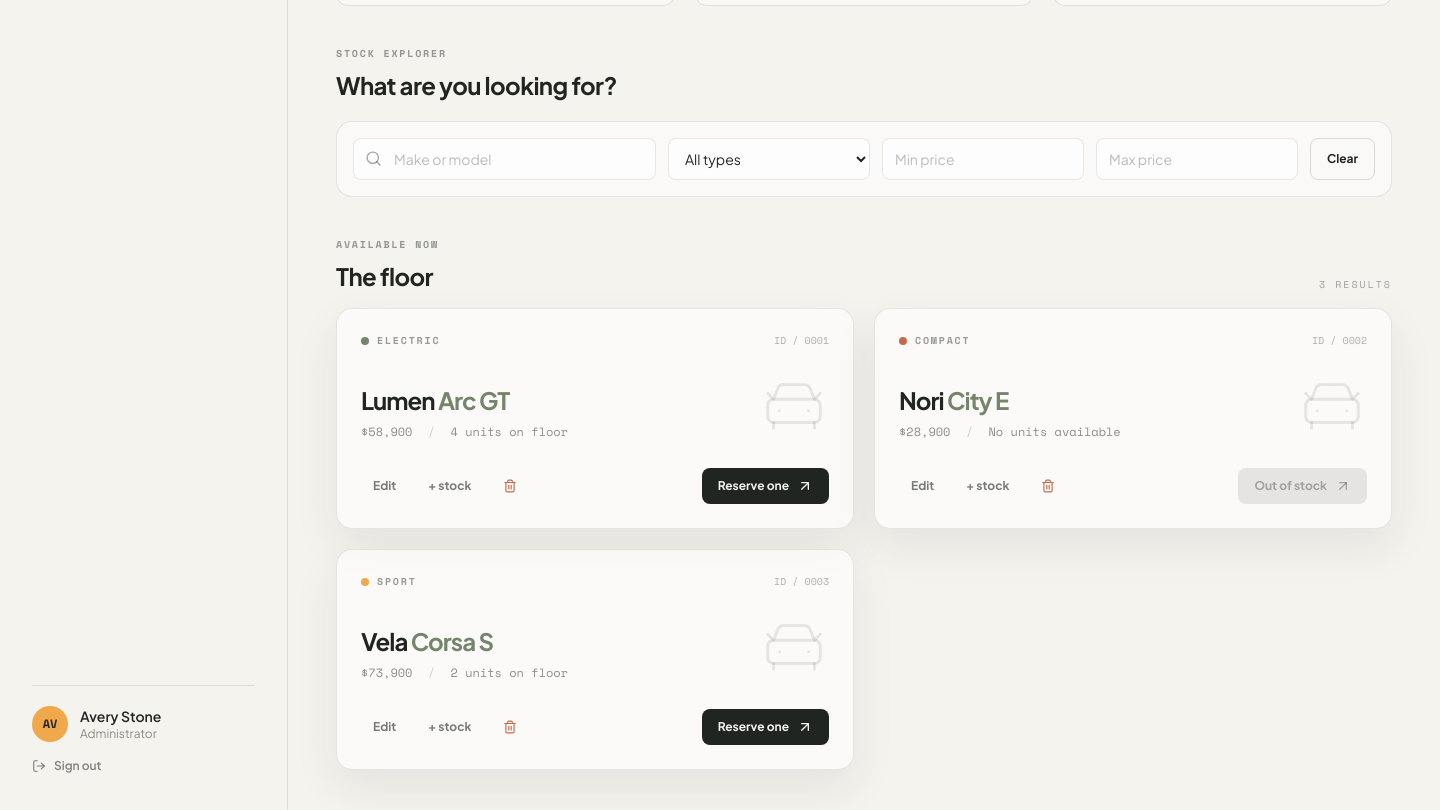
Test: Dashboard (admin) › restocks a vehicle
(page scrolled)
Click the button "+ stock" below "$28,900".
click(988, 486)  # box [954, 468, 1021, 504]
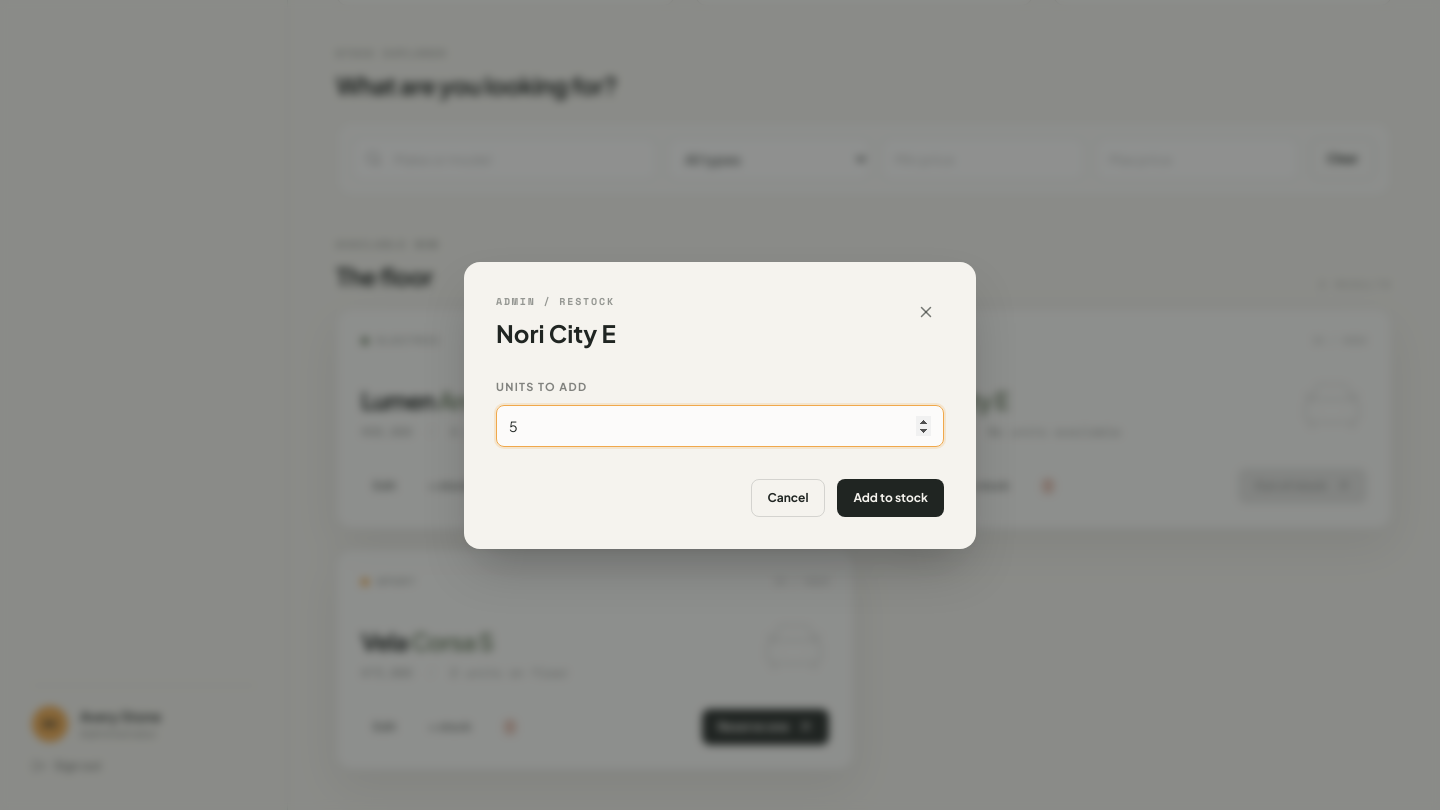
Click the button "Add to stock".
click(891, 498)  # box [838, 478, 944, 516]
(page scrolled)
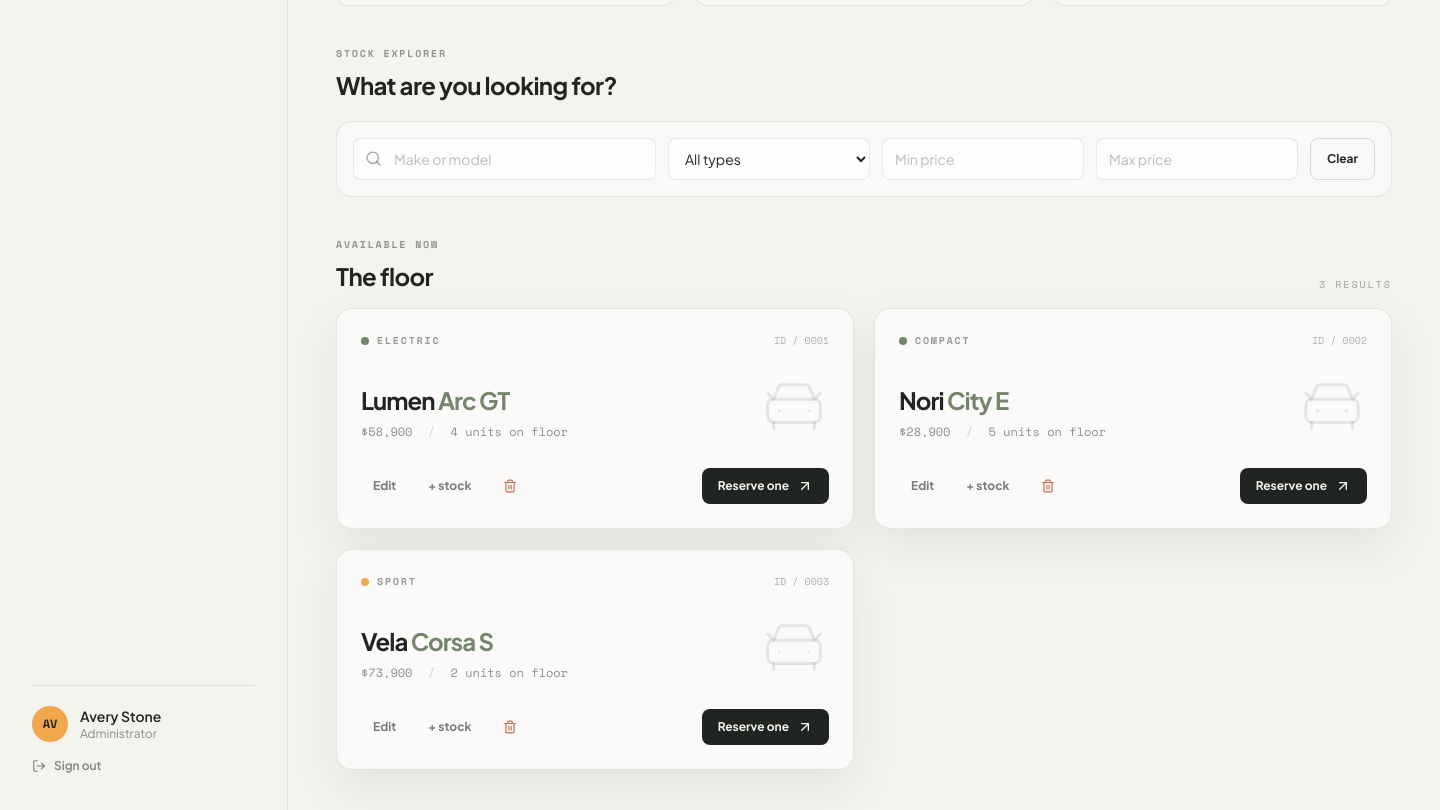
Expected: the text "$28,900 / 5 units on floor" is shown, [899, 424, 1106, 440]
